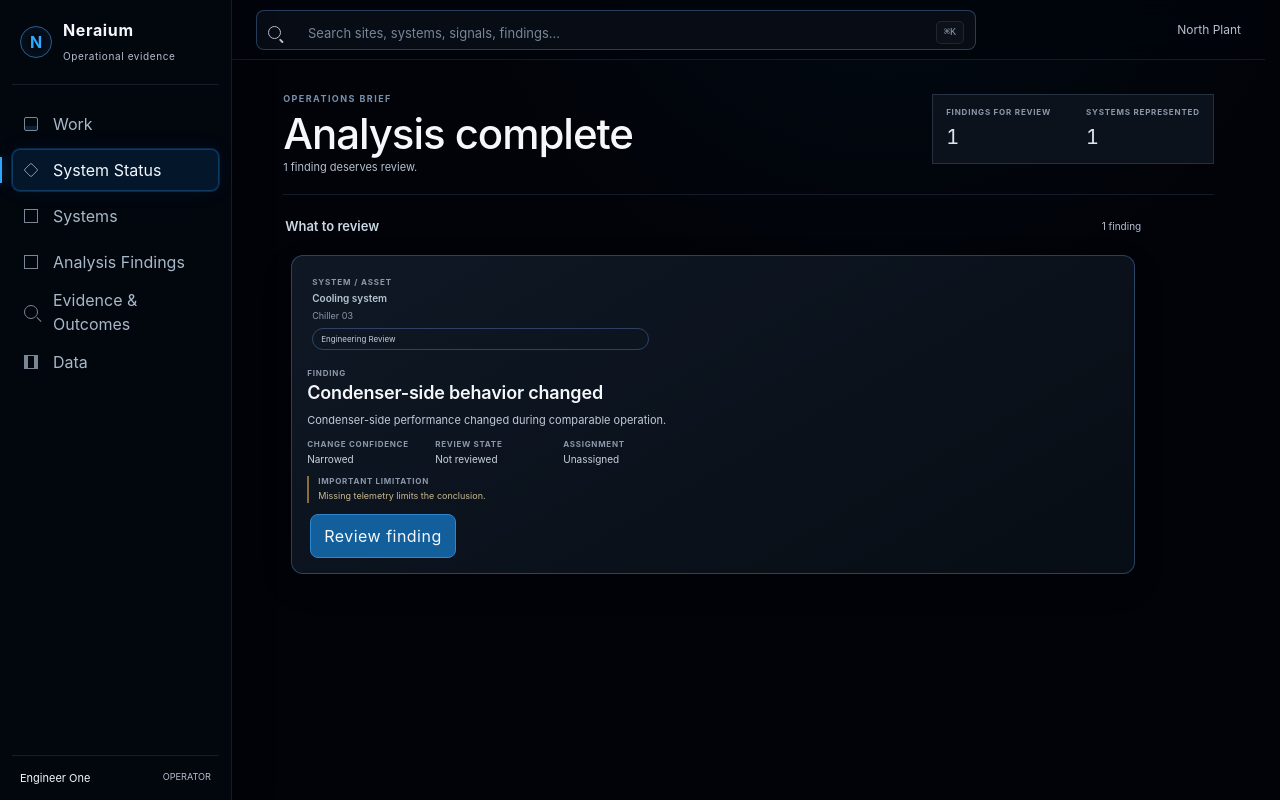
Scenario: EngineeringReasoningWorkspace daily workflows › keeps workflow mutation out of analytical Results and Finding Review
Click the button "Review finding" at (383, 536), box [310, 514, 456, 558]
(page scrolled)
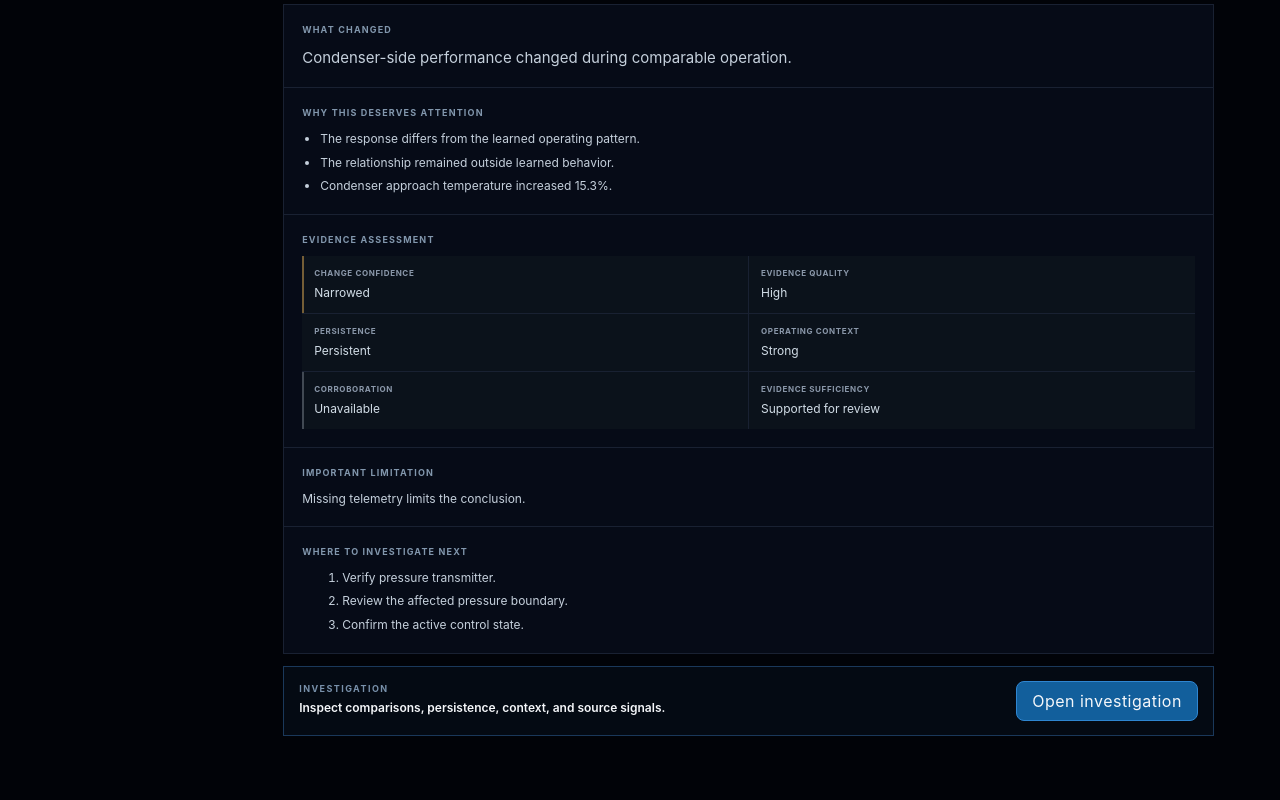
Now the button "Open investigation" is shown, box [1016, 681, 1198, 721]
